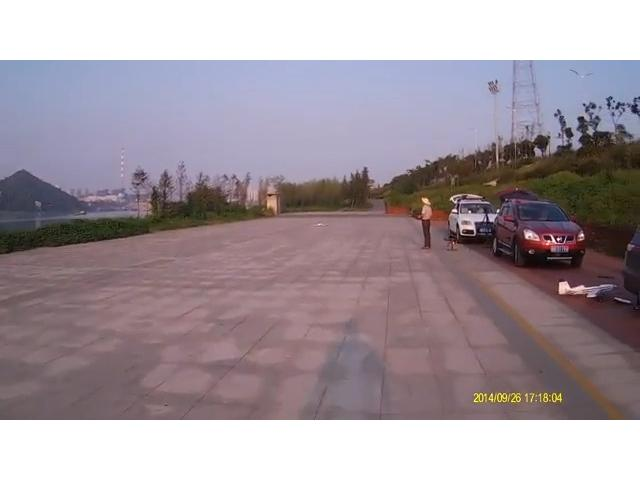Anti-Drone: (305, 219, 339, 231)
